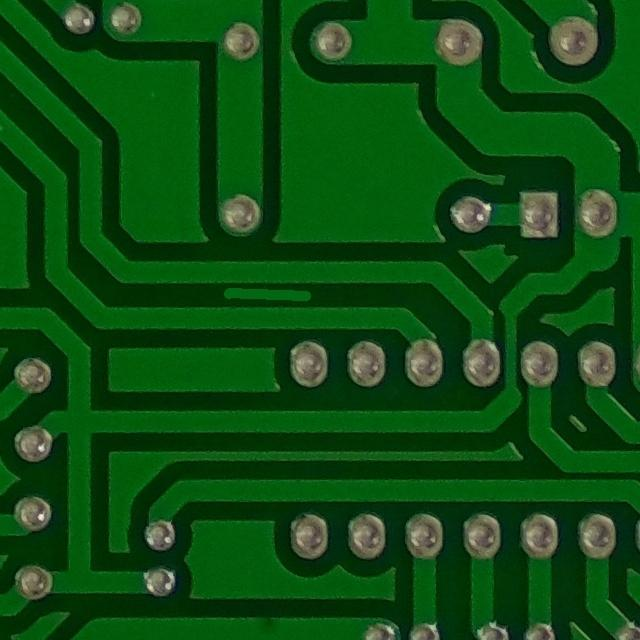spurious_copper: (216, 273, 318, 313)
